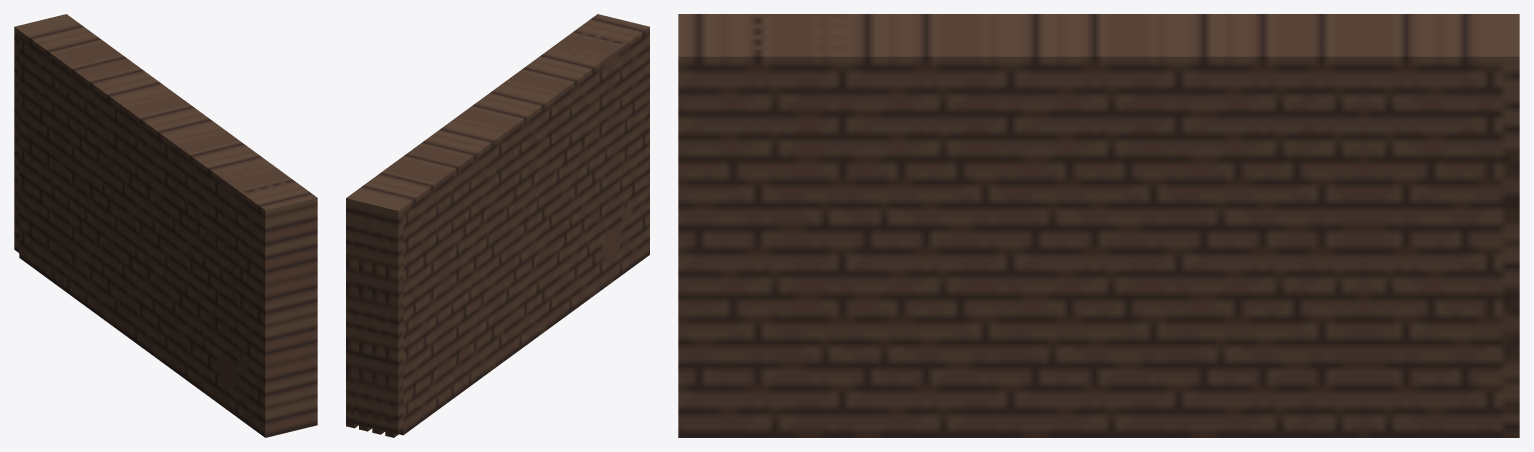
File: Wall_OuterBack_00.fbx
The picture shows the model from 3 angles, left to right: view 1: azimuth 30°, elevation 25°; view 2: azimuth 150°, elevation 25°; view 3: azimuth 270°, elevation 25°; orthographic projection. The views are drawn at different scales.
Parts seen in each view (by area): view 1: Wall_OuterBack_00; view 2: Wall_OuterBack_00; view 3: Wall_OuterBack_00.
Boxes of the visible parts, x1,y1,x2,y2 form: Wall_OuterBack_00: [14, 14, 317, 437]; Wall_OuterBack_00: [346, 14, 649, 437]; Wall_OuterBack_00: [678, 14, 1519, 437].
Bounding box in the file's own units: 60 × 250 × 500.
